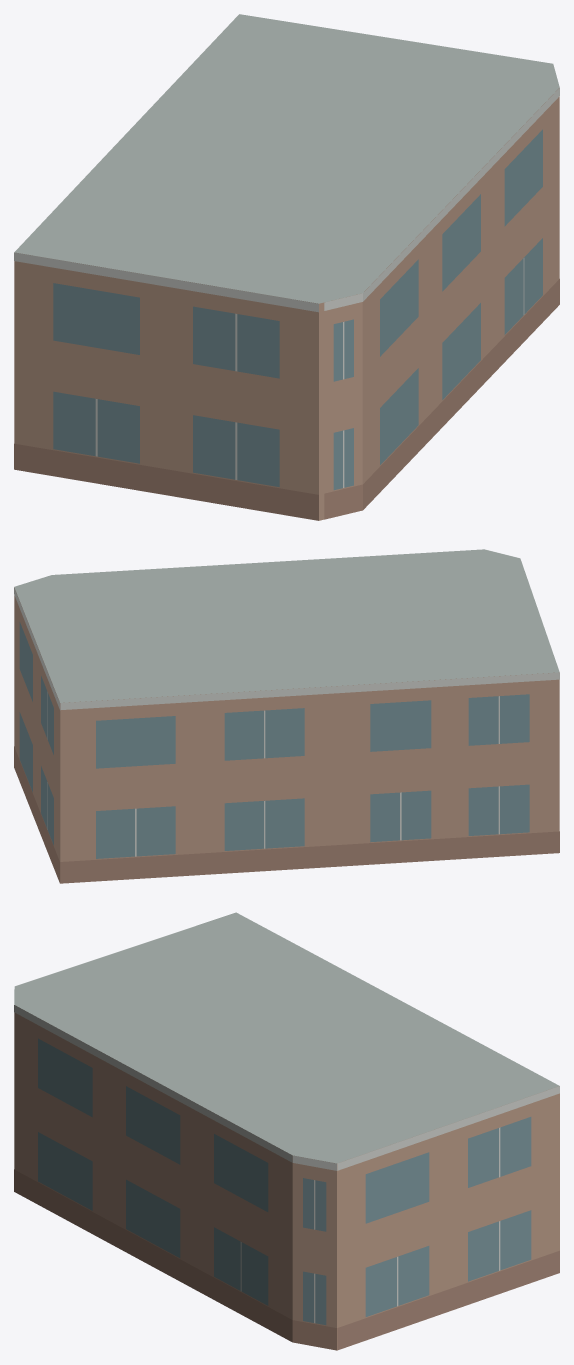
The model's file is survey-upis-33035700.glb.
The picture shows the model from 3 angles, top to bottom: view 1: azimuth 30°, elevation 25°; view 2: azimuth 150°, elevation 25°; view 3: azimuth 270°, elevation 25°; orthographic projection. The views are drawn at different scales.
Parts seen in each view (by area): view 1: survey-upis-33035700.tmp; view 2: survey-upis-33035700.tmp; view 3: survey-upis-33035700.tmp.
Boxes of the visible parts, left/top/right/bottom form: survey-upis-33035700.tmp: left=14, top=14, right=559, bottom=520; survey-upis-33035700.tmp: left=14, top=549, right=559, bottom=883; survey-upis-33035700.tmp: left=14, top=912, right=559, bottom=1350.
Bounding box in the file's own units: 17.58 × 6.1 × 16.14.
